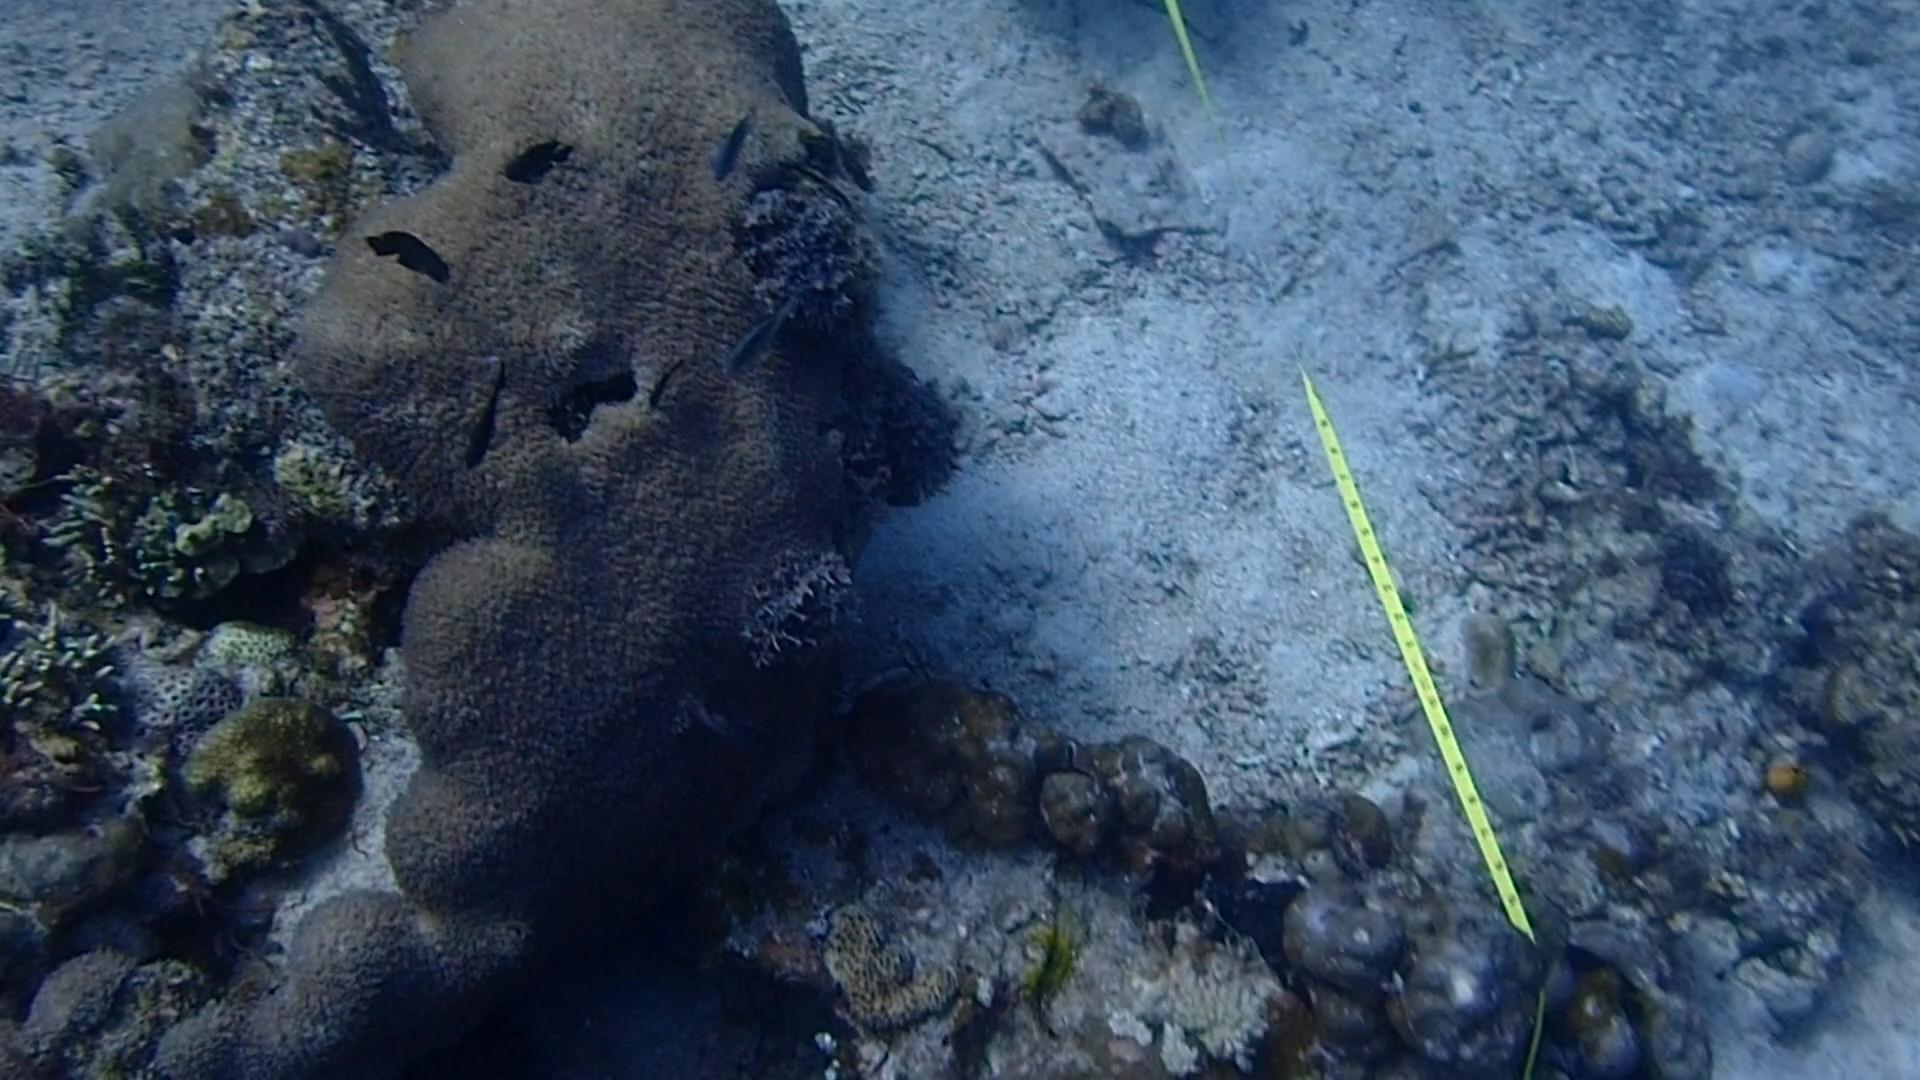Dark Fish: (436, 352, 522, 469), (345, 214, 462, 297), (1712, 918, 1801, 981), (491, 133, 574, 191), (630, 349, 690, 411)
Light Fish: (709, 293, 800, 390), (676, 684, 756, 762), (705, 102, 760, 183)
